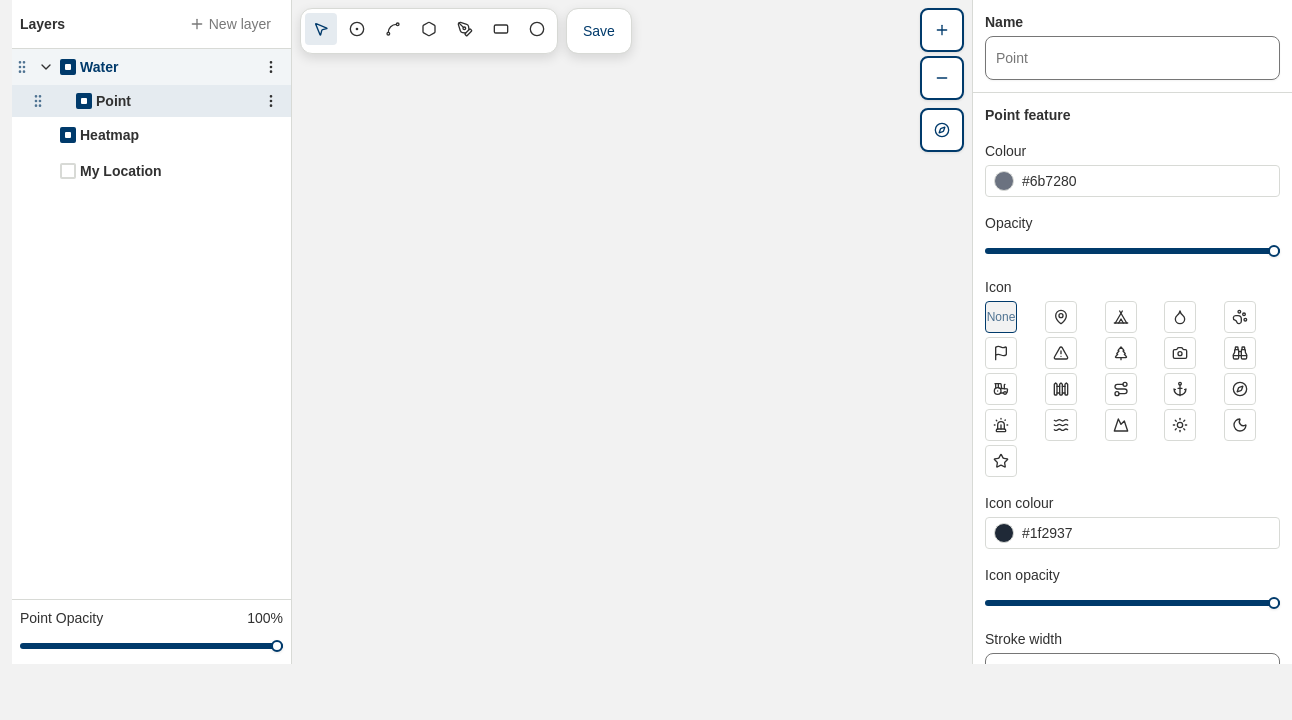
Test: WorkspacePage › keeps a feature's rendering-opacity preview on the map after it is deselected
Set the slider named "Point Opacity" to "35" at {"x": 114, "y": 646}, box [20,643,283,649]
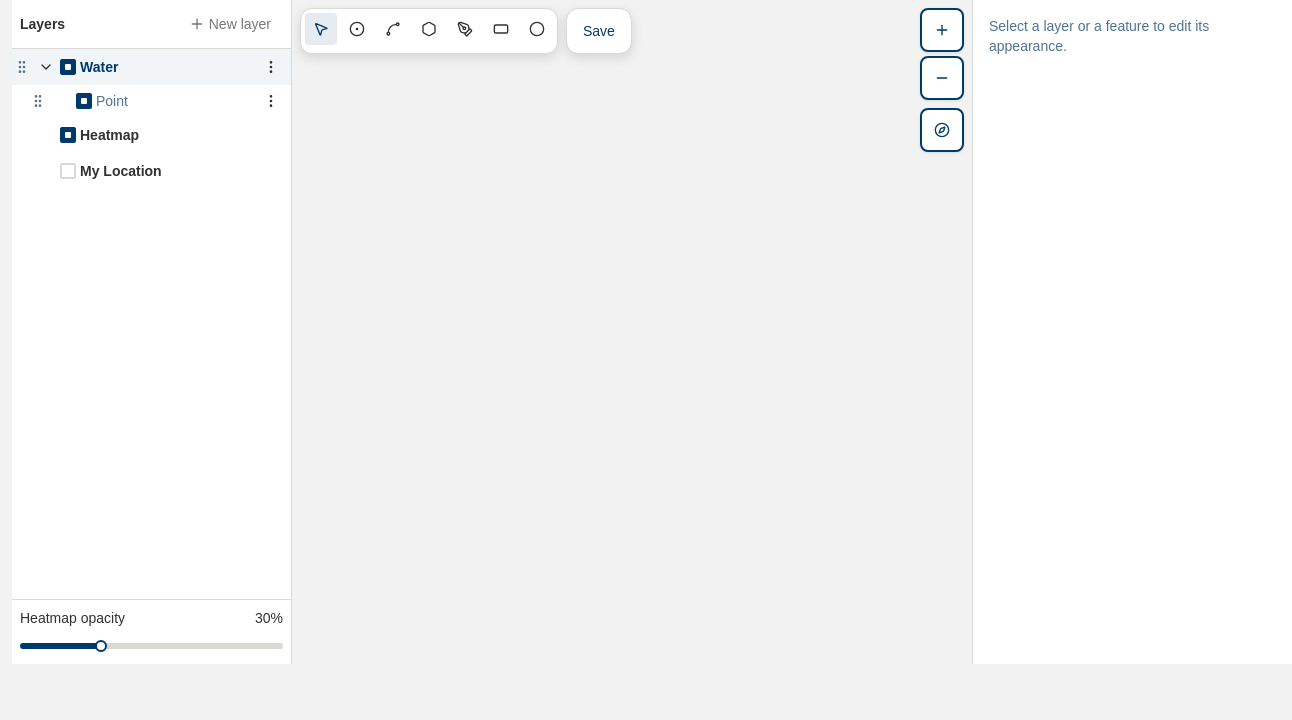
Result: the text labelled "Point Opacity" is gone
